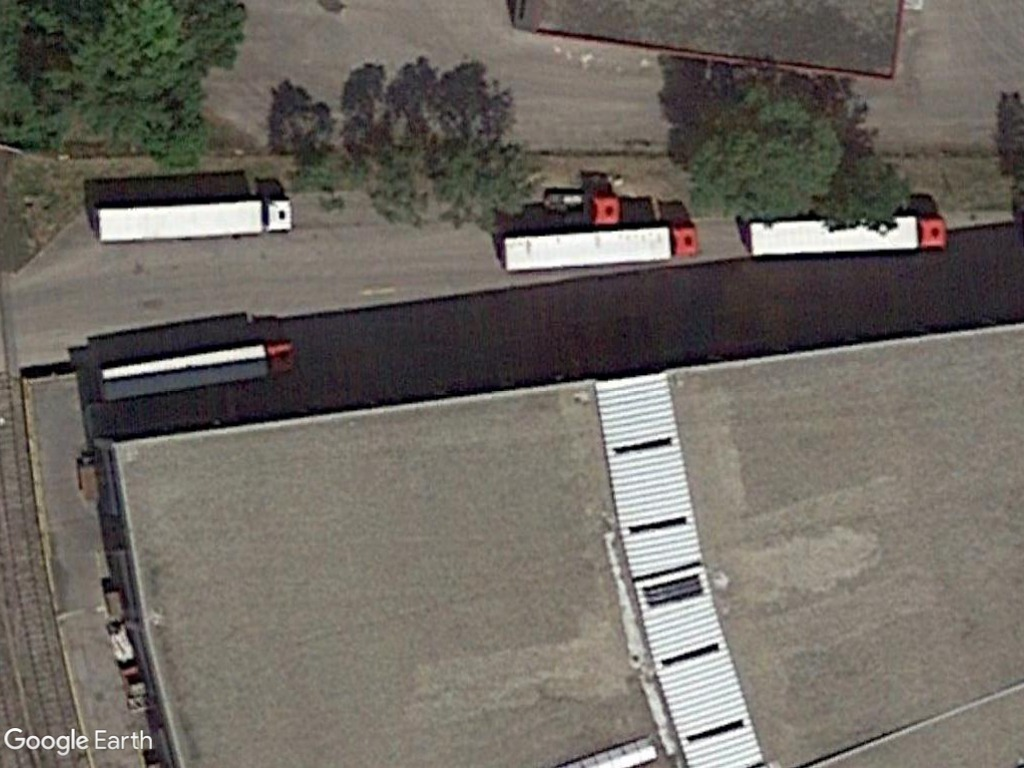longvehicle: (95, 336, 298, 404), (90, 193, 293, 249), (498, 223, 703, 278), (740, 213, 947, 264)
